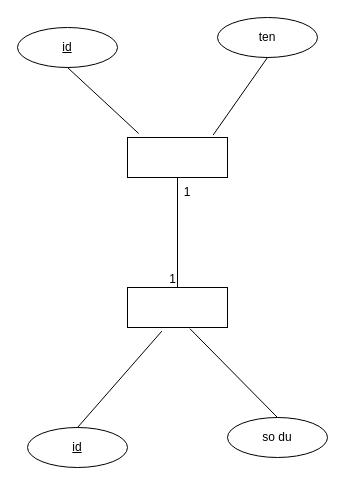
Image size: 345x485. Some labels were removed from this diagram. Here are the shapes that lost their labels. From the top down, the box of each, then its label:
(126, 136, 228, 178): Khach_hang
(126, 286, 228, 328): TK_Ngan_hang
